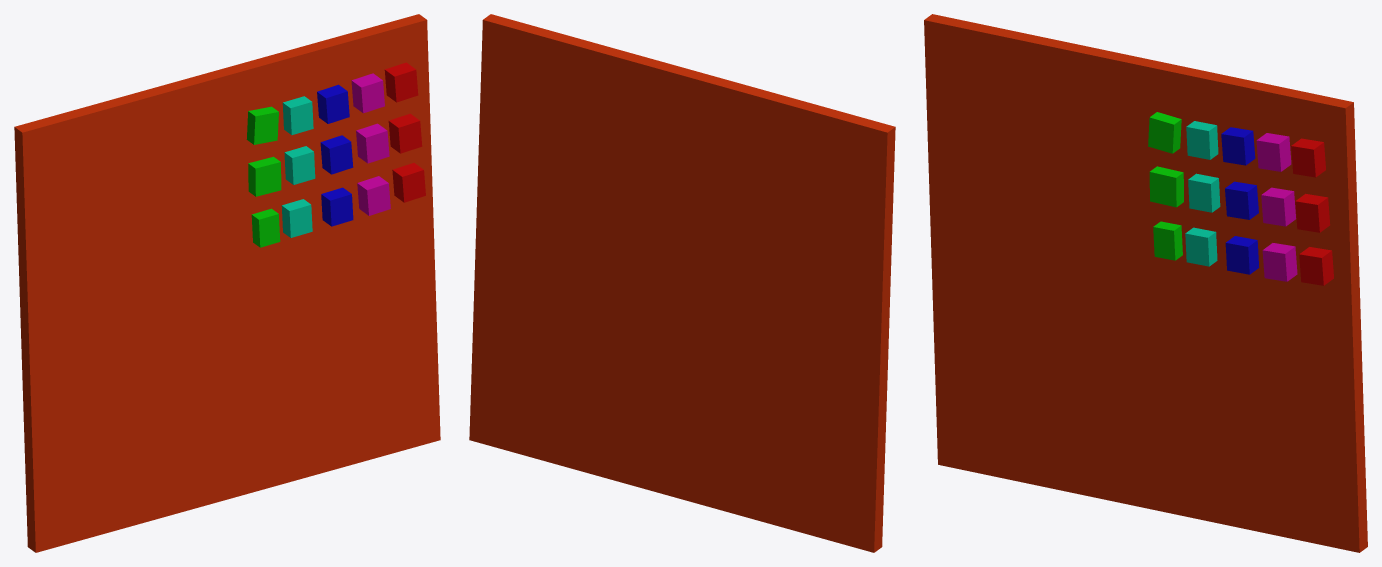
File: phantom_collision_single.OBJ
The picture shows the model from 3 angles, left to right: view 1: azimuth 30°, elevation 25°; view 2: azimuth 150°, elevation 25°; view 3: azimuth 330°, elevation 25°; orthographic projection. The views are drawn at different scales.
Parts seen in each view (by area): view 1: phantom_collision_single_Plane.045; view 2: phantom_collision_single_Plane.045; view 3: phantom_collision_single_Plane.045.
Part boxes in pixels (x1,y1,x2,y2): phantom_collision_single_Plane.045: (14, 14, 440, 552); phantom_collision_single_Plane.045: (469, 14, 895, 552); phantom_collision_single_Plane.045: (924, 14, 1367, 552).
Bounding box in the file's own units: 0.1578 × 0.1578 × 0.0117.
